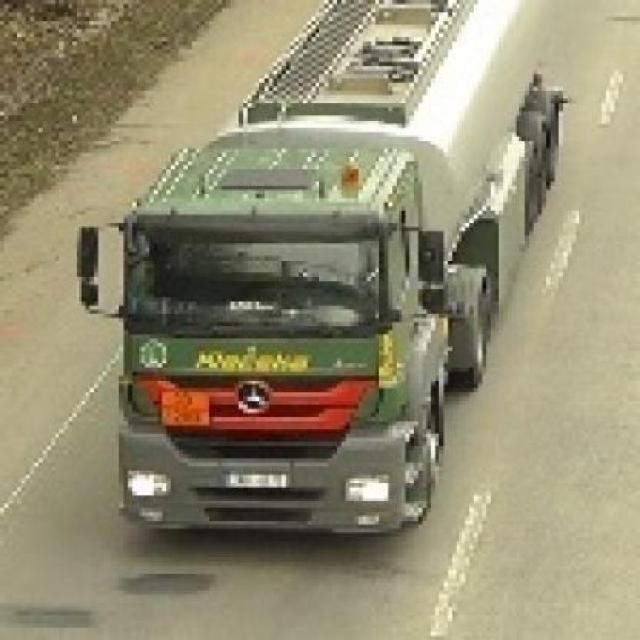truck: (83, 1, 569, 543)
